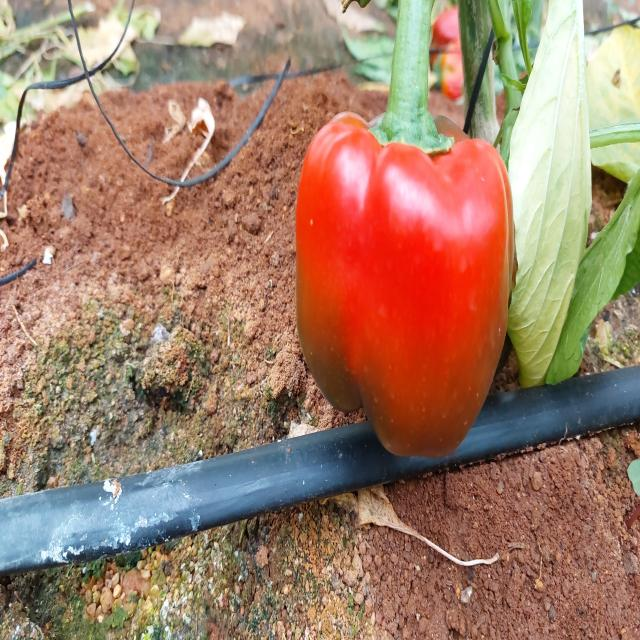Red-Ready-to-Harvest: (299, 84, 529, 486)
